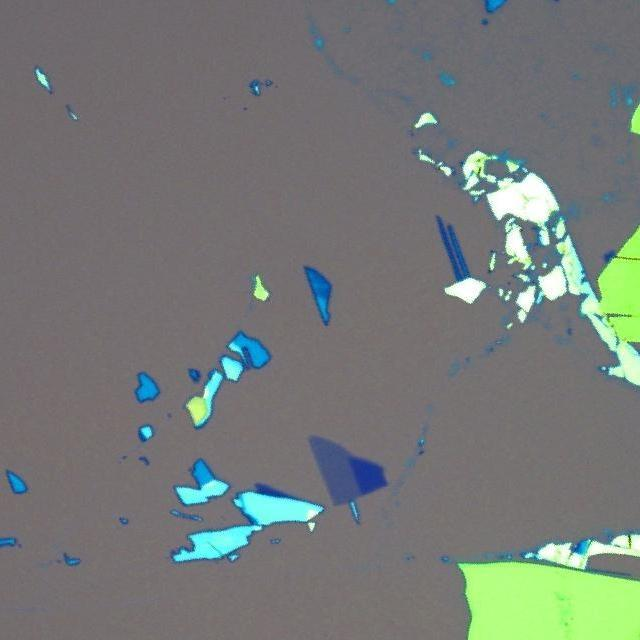monolayer-eWW4: (306, 430, 364, 508)
